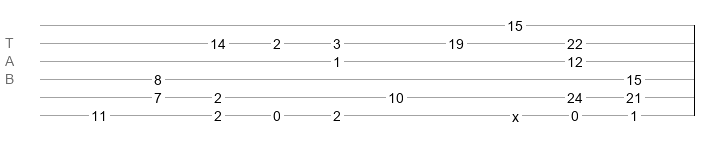0: (273, 108, 281, 118), (571, 108, 579, 118)
1: (333, 54, 341, 64), (630, 108, 638, 118)
10: (388, 90, 404, 100)
11: (91, 108, 107, 118)
12: (567, 54, 583, 64)
14: (210, 36, 226, 46)
15: (507, 18, 523, 28), (626, 72, 642, 82)
19: (448, 36, 464, 46)
2: (214, 108, 222, 118), (214, 90, 222, 100), (273, 36, 281, 46), (333, 108, 341, 118)
21: (626, 90, 642, 100)
22: (567, 36, 583, 46)
24: (567, 90, 583, 100)
3: (333, 36, 341, 46)
7: (154, 90, 162, 100)
8: (154, 72, 162, 82)
x: (512, 109, 519, 117)
